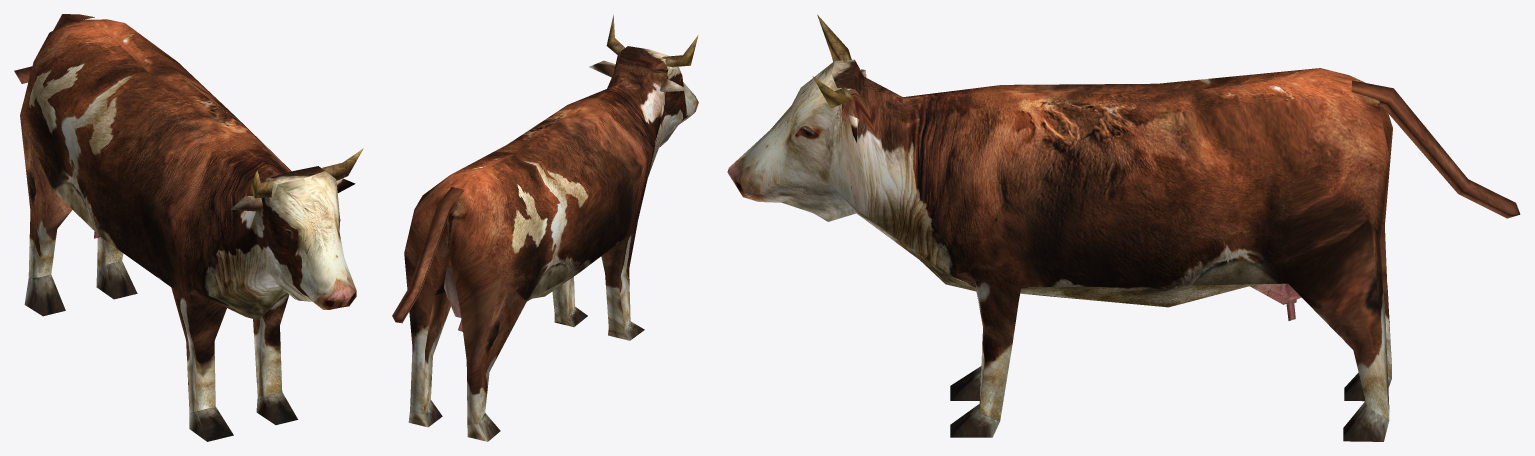
File: cow-stand-brown-cbj_LOD02.gltf
3 views of the same model, side by side, from view 1: azimuth 30°, elevation 25°; view 2: azimuth 150°, elevation 25°; view 3: azimuth 270°, elevation 25° (orthographic). The views are drawn at different scales.
Parts seen in each view (by area): view 1: Line01.003; view 2: Line01.003; view 3: Line01.003.
Part boxes in pixels (left/top/right/bottom): Line01.003: left=14, top=14, right=363, bottom=441; Line01.003: left=392, top=15, right=698, bottom=441; Line01.003: left=727, top=14, right=1520, bottom=441.
Size of the model in its own units: 0.8228 by 1.79 by 3.5.
